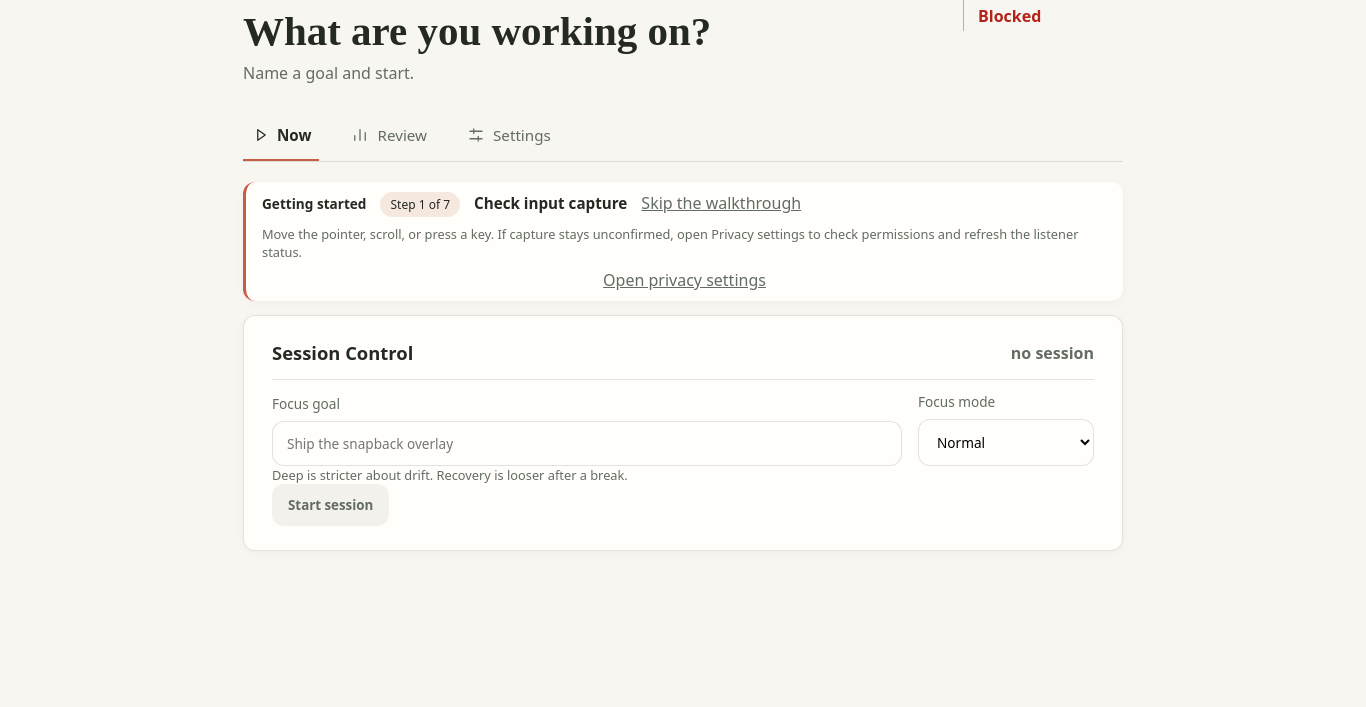
Test: Session explorer › Start this again fills the start form on Now and records nothing
Step 1. Click the tab "Review" → (389, 137), box [344, 113, 435, 161]
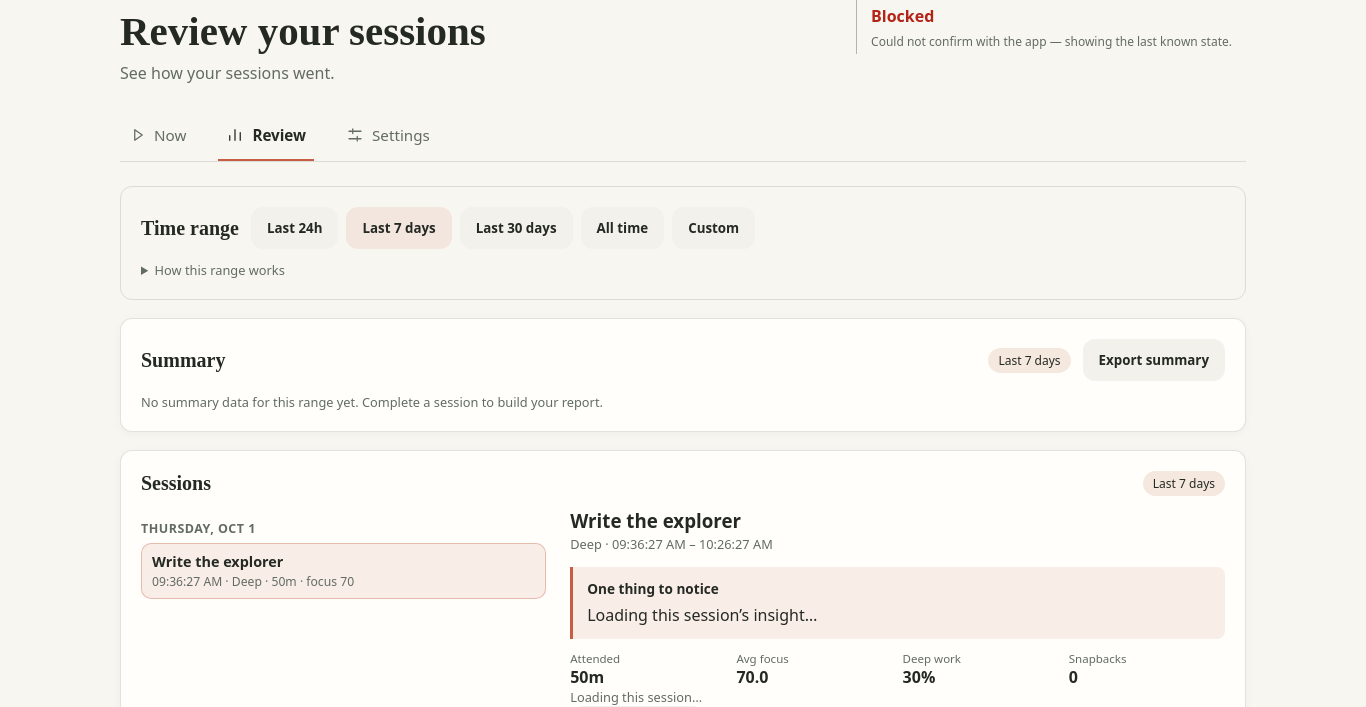
Step 2. Click the button "Write the explorer 09:36:27 AM · Deep · 50m · focus 70" → (344, 571), box [141, 543, 546, 599]
(page scrolled)
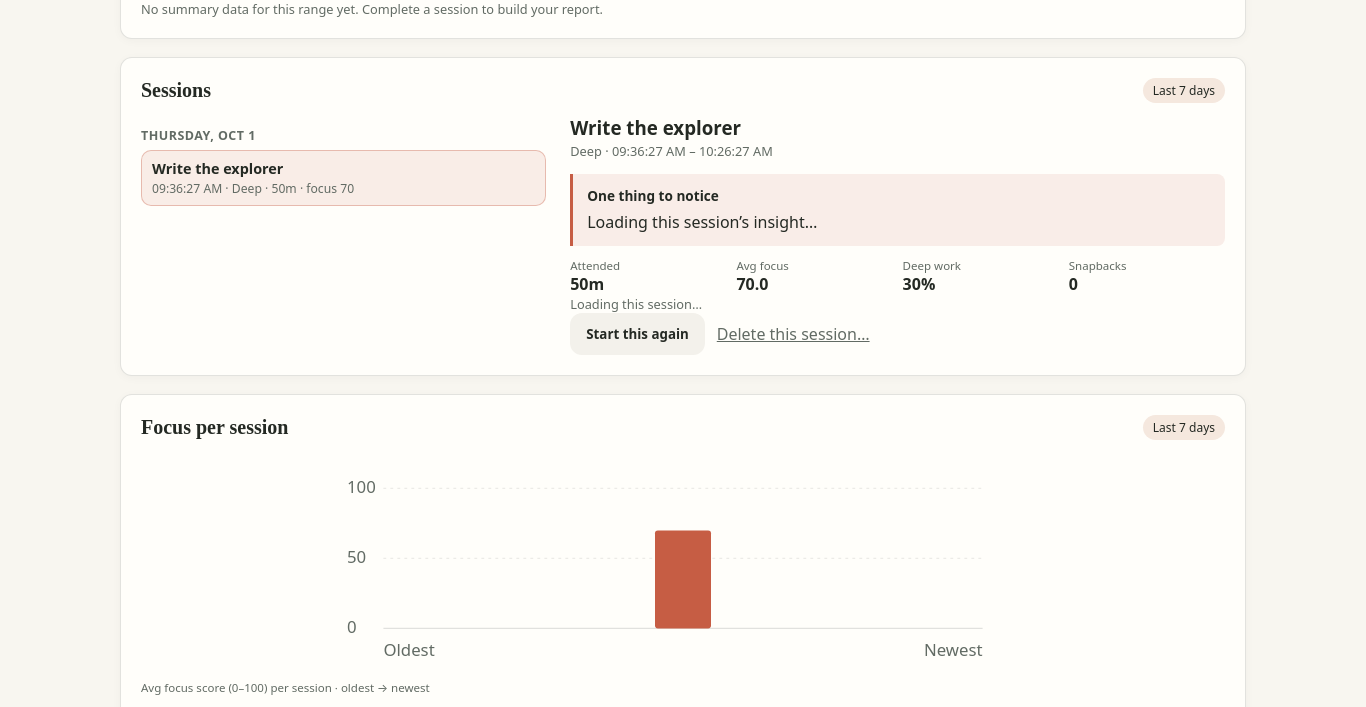
Step 3. Click the button "Start this again" → (637, 334), box [570, 313, 705, 355]
(page scrolled)
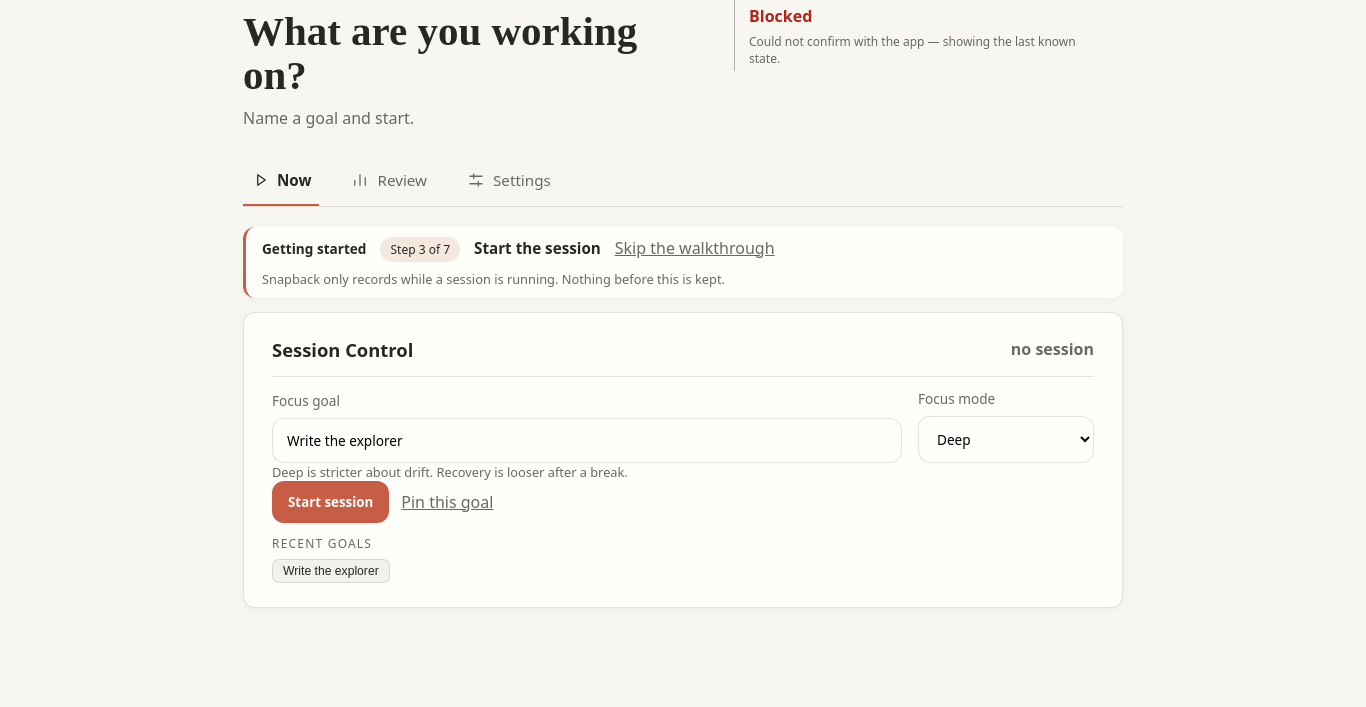
Expected: the dropdown with placeholder "Ship the snapback overlay" holds "Write the explorer", [272, 418, 902, 462]
Expected: the dropdown labelled "Focus mode" shows "Deep", [918, 416, 1094, 462]
